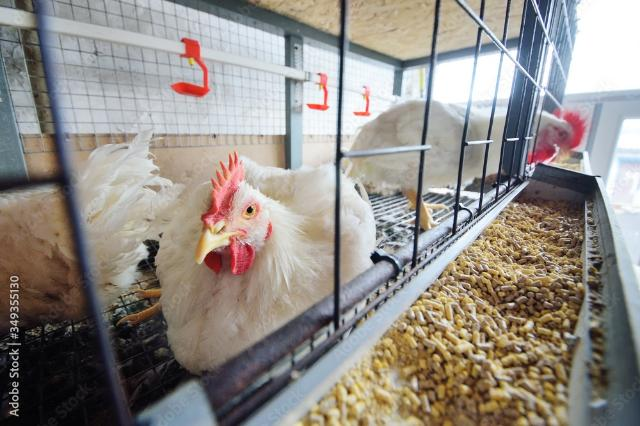Chicken: (123, 149, 376, 377), (0, 131, 180, 326), (346, 99, 588, 232)
